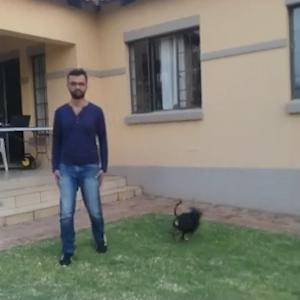follow: (49, 69, 111, 261)
